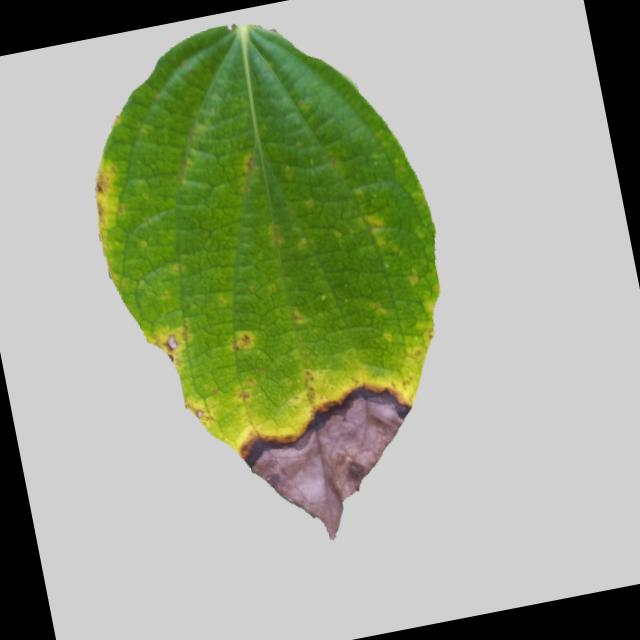leaf-blight: (40, 1, 512, 586)
